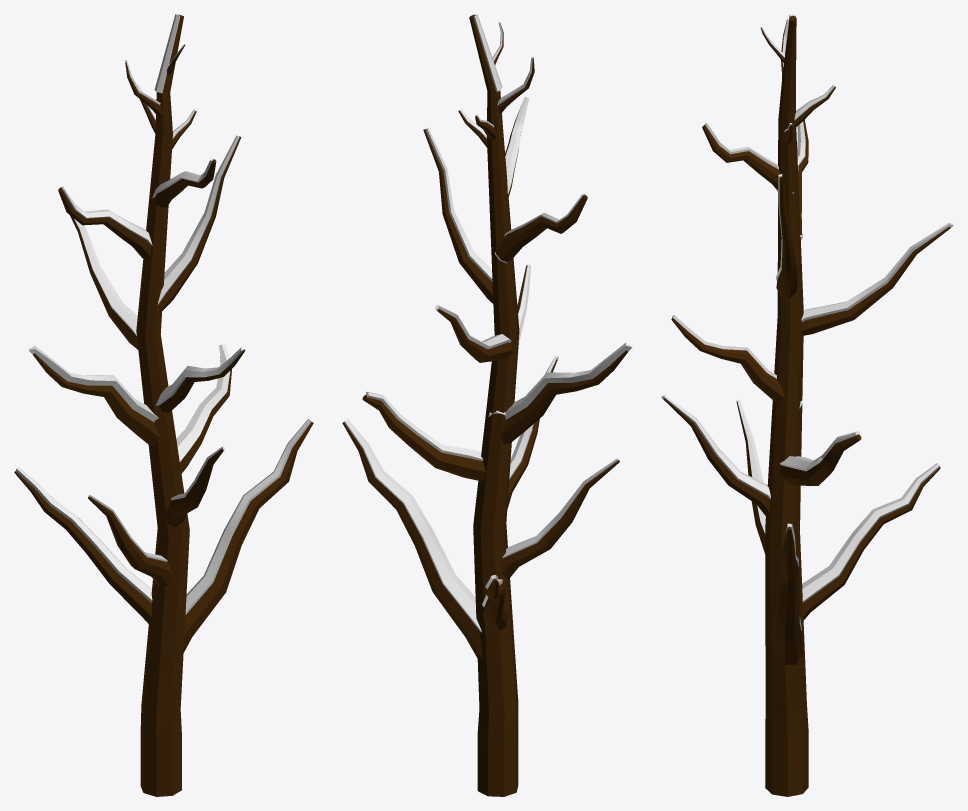
The model's file is Dead_tree_2.fbx.
3 renders of one model, left to right at view 1: azimuth 30°, elevation 25°; view 2: azimuth 150°, elevation 25°; view 3: azimuth 270°, elevation 25°, orthographic. The views are drawn at different scales.
Visible parts, largest first — view 1: Dead_tree_2; view 2: Dead_tree_2; view 3: Dead_tree_2.
Boxes of the visible parts, bbox=[...] form: Dead_tree_2: bbox=[14, 14, 313, 796]; Dead_tree_2: bbox=[342, 14, 632, 796]; Dead_tree_2: bbox=[661, 14, 953, 796].
Bounding box in the file's own units: 159 × 405 × 137.
